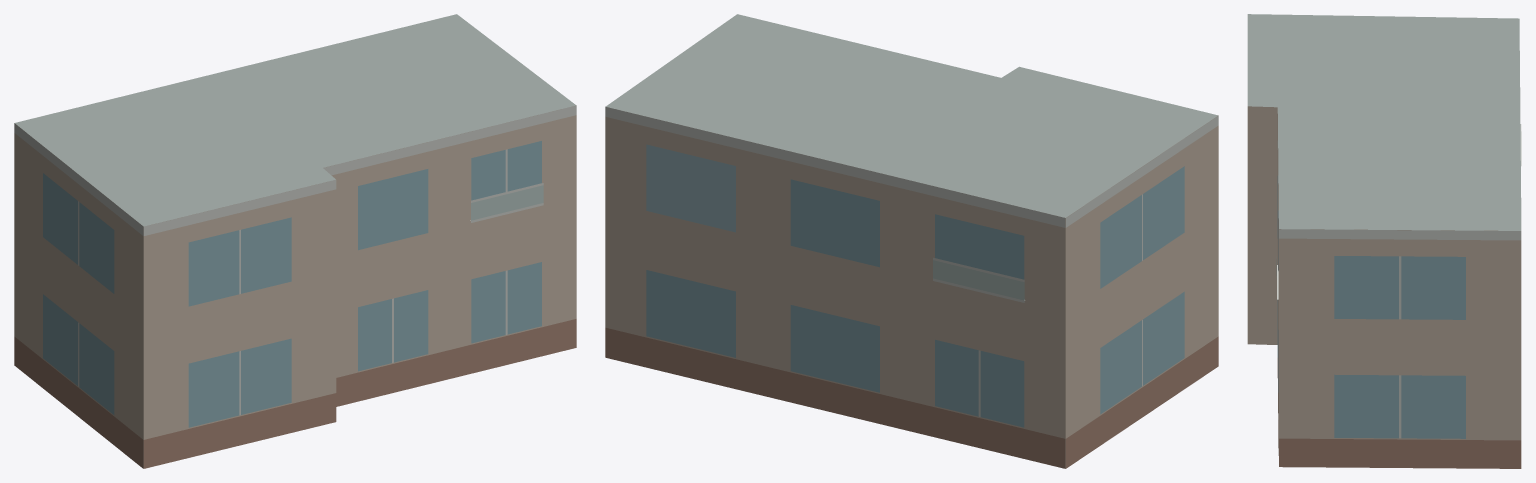
Rendered from survey-upis-32598102.glb.
3 views of the same model, side by side, from view 1: azimuth 30°, elevation 25°; view 2: azimuth 150°, elevation 25°; view 3: azimuth 270°, elevation 25° (orthographic). The views are drawn at different scales.
Parts seen in each view (by area): view 1: survey-upis-32598102.tmp; view 2: survey-upis-32598102.tmp; view 3: survey-upis-32598102.tmp.
Part boxes in pixels (box(x1,y1,x2,y2)): survey-upis-32598102.tmp: box(14, 14, 576, 468); survey-upis-32598102.tmp: box(605, 14, 1218, 468); survey-upis-32598102.tmp: box(1247, 14, 1521, 468).
Size of the model in its own units: 11.94 by 6.1 by 6.38.
